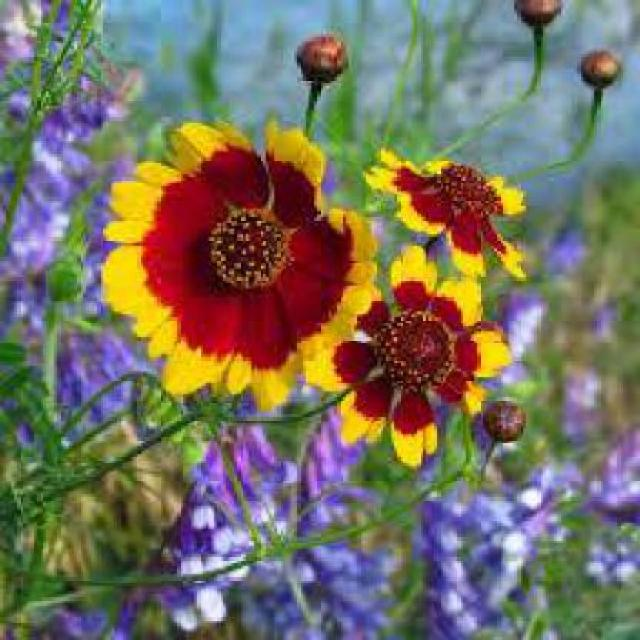flower: (97, 127, 380, 393), (302, 249, 502, 460), (368, 144, 548, 290)
